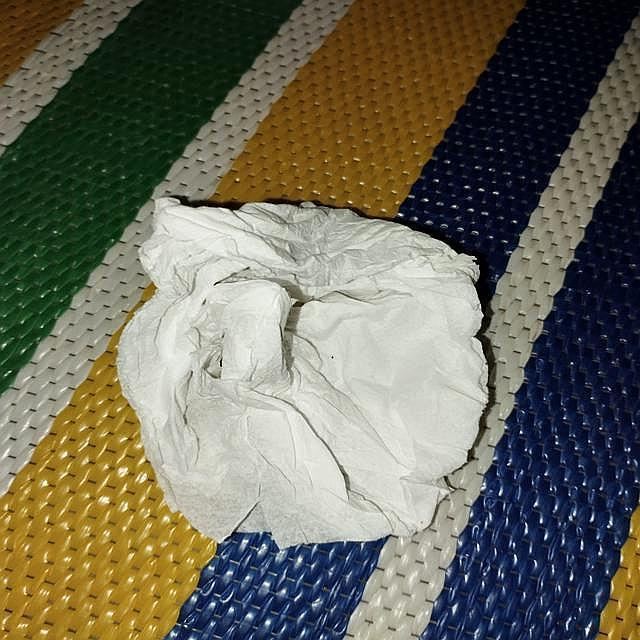Biodegradable: (122, 199, 488, 543)
